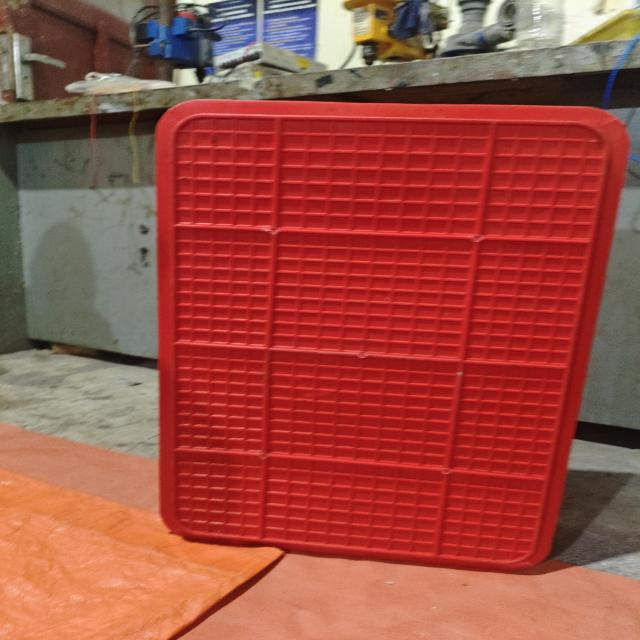red plastic box: (155, 99, 630, 570)
